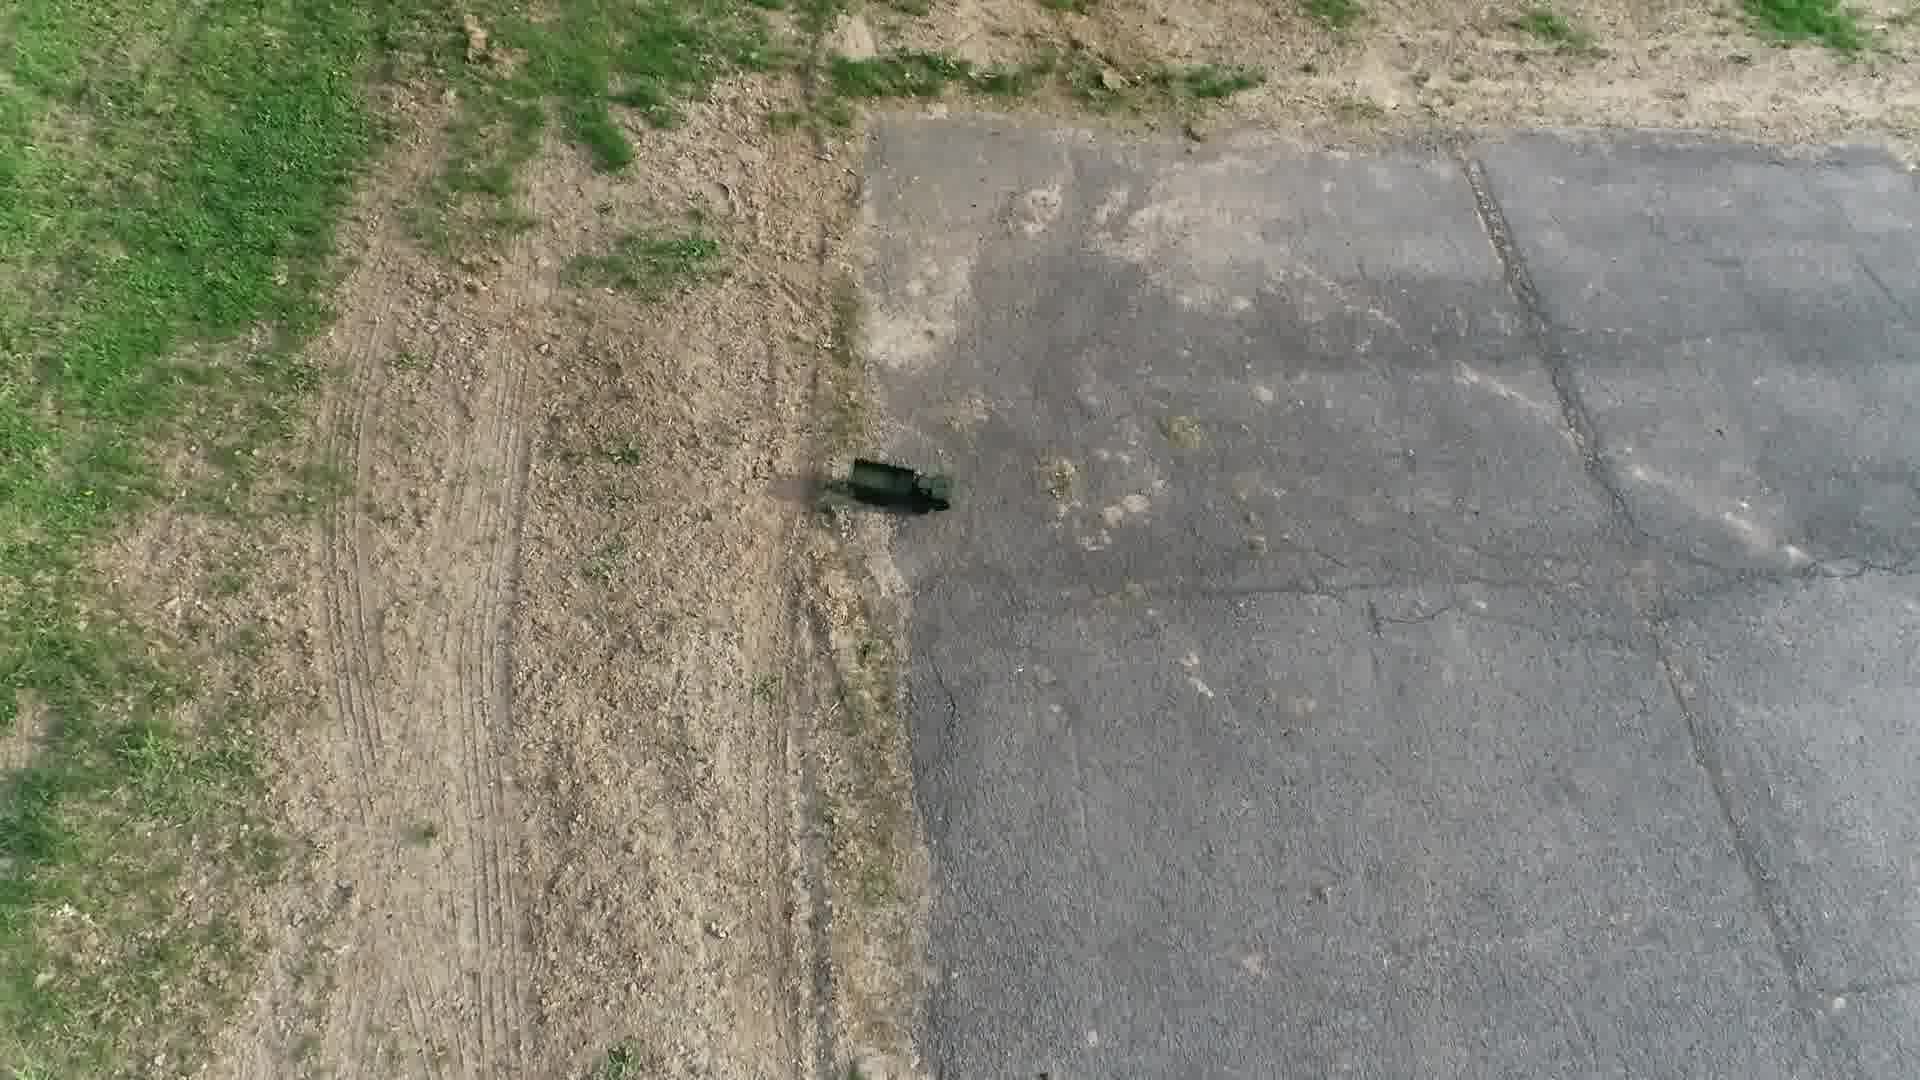transporter9: (844, 454, 960, 520)
